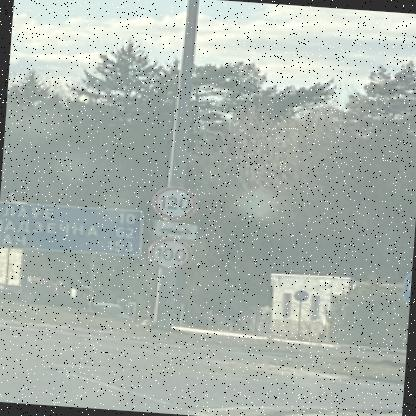speedlimit: (149, 184, 195, 220), (145, 236, 189, 270)
